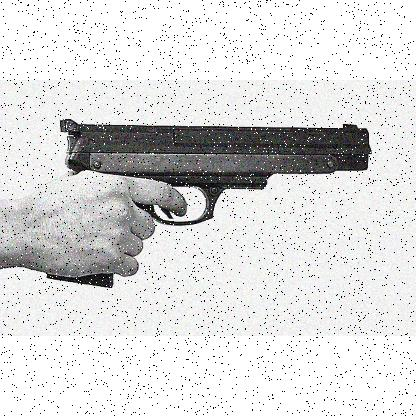gun: (46, 117, 370, 287)
